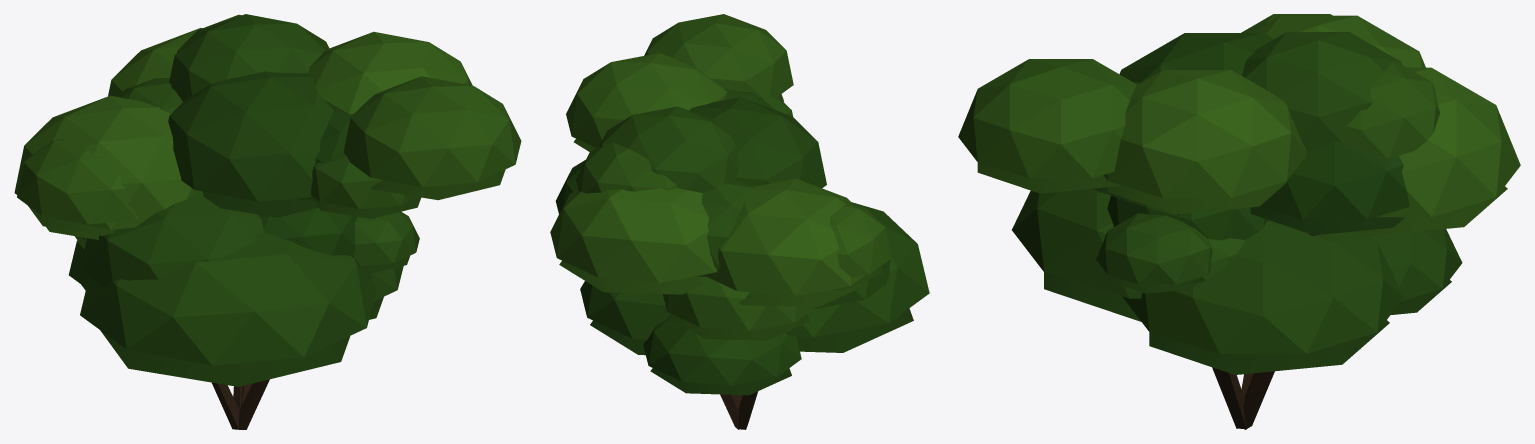
Rendered from ground_shrub_2.glb.
3 renders of one model, left to right at view 1: azimuth 30°, elevation 25°; view 2: azimuth 150°, elevation 25°; view 3: azimuth 270°, elevation 25°, orthographic. The views are drawn at different scales.
Visible parts, largest first — view 1: leaf, wood; view 2: leaf, wood; view 3: leaf, wood.
Boxes of the visible parts, left/top/right/bottom form: leaf: left=14, top=14, right=521, bottom=386; wood: left=212, top=379, right=269, bottom=429; leaf: left=550, top=14, right=929, bottom=395; wood: left=720, top=391, right=757, bottom=429; leaf: left=958, top=14, right=1520, bottom=374; wood: left=1178, top=214, right=1315, bottom=429.
Bounding box in the file's own units: 1.93 × 1.77 × 2.15.
